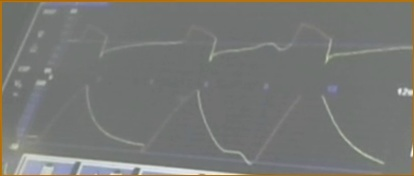Ineffective_effort Flow: (68, 17, 408, 70)
Ineffective_effort Volume: (26, 83, 388, 167)
